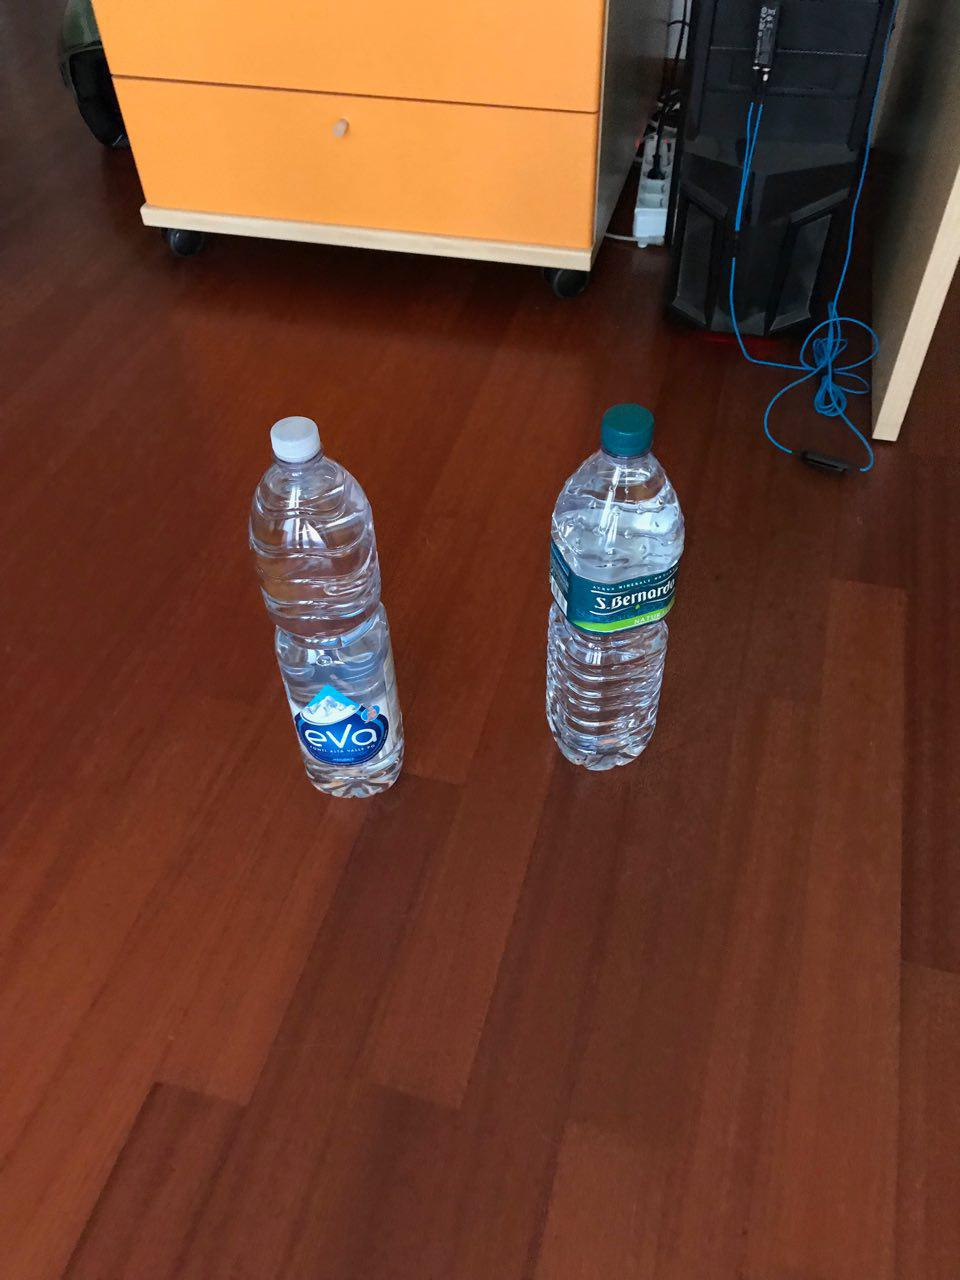san_bernardo: (544, 402, 686, 772)
